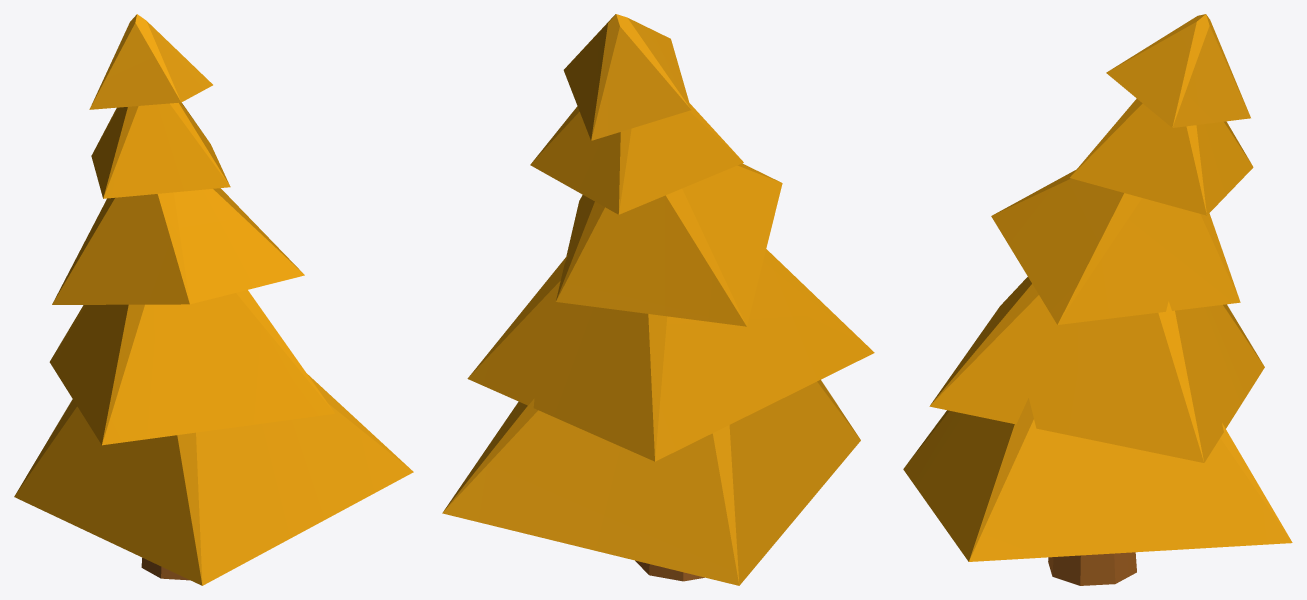
Rendered from tree_3_yellow.fbx.
3 renders of one model, left to right at view 1: azimuth 30°, elevation 25°; view 2: azimuth 150°, elevation 25°; view 3: azimuth 270°, elevation 25°, orthographic. The views are drawn at different scales.
Visible parts, largest first — view 1: tree_3_yellow; view 2: tree_3_yellow; view 3: tree_3_yellow.
Boxes of the visible parts, box(x1,y1,x2,y2) form: tree_3_yellow: box(14, 14, 413, 585); tree_3_yellow: box(442, 14, 874, 585); tree_3_yellow: box(903, 14, 1292, 585).
Size of the model in its own units: 373 by 611 by 387.
